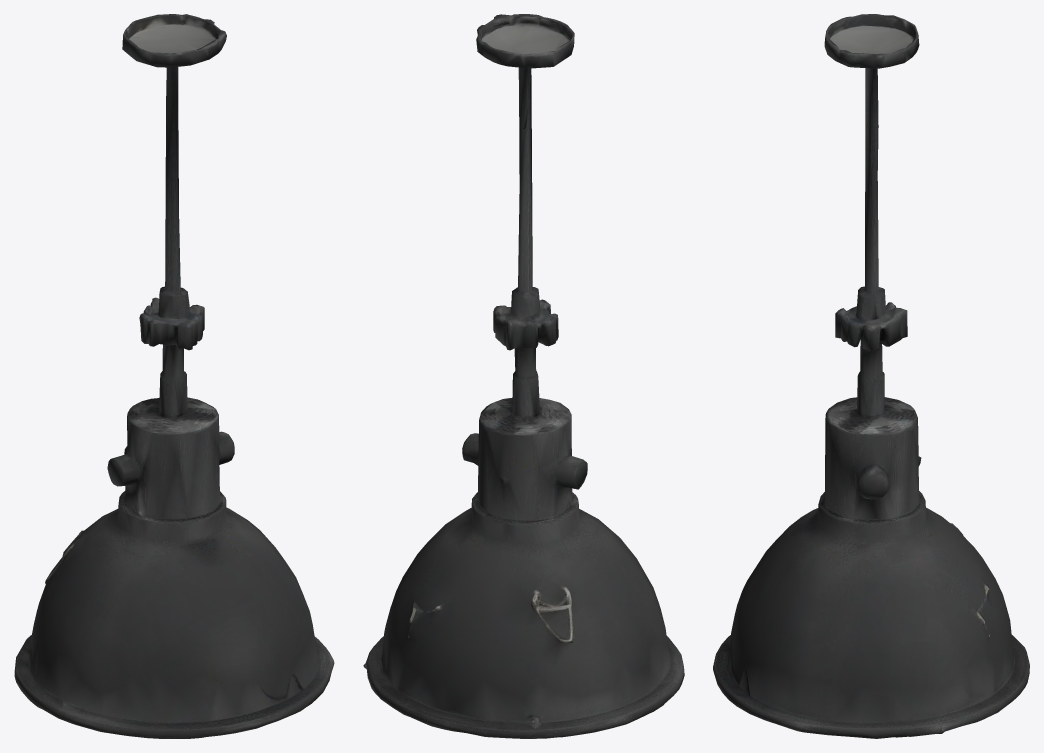
3 views of the same model, side by side, from view 1: azimuth 30°, elevation 25°; view 2: azimuth 150°, elevation 25°; view 3: azimuth 270°, elevation 25° (orthographic).
Size of the model in its own units: 0.8824 by 2 by 0.8812.
1 material, 1 textured.
